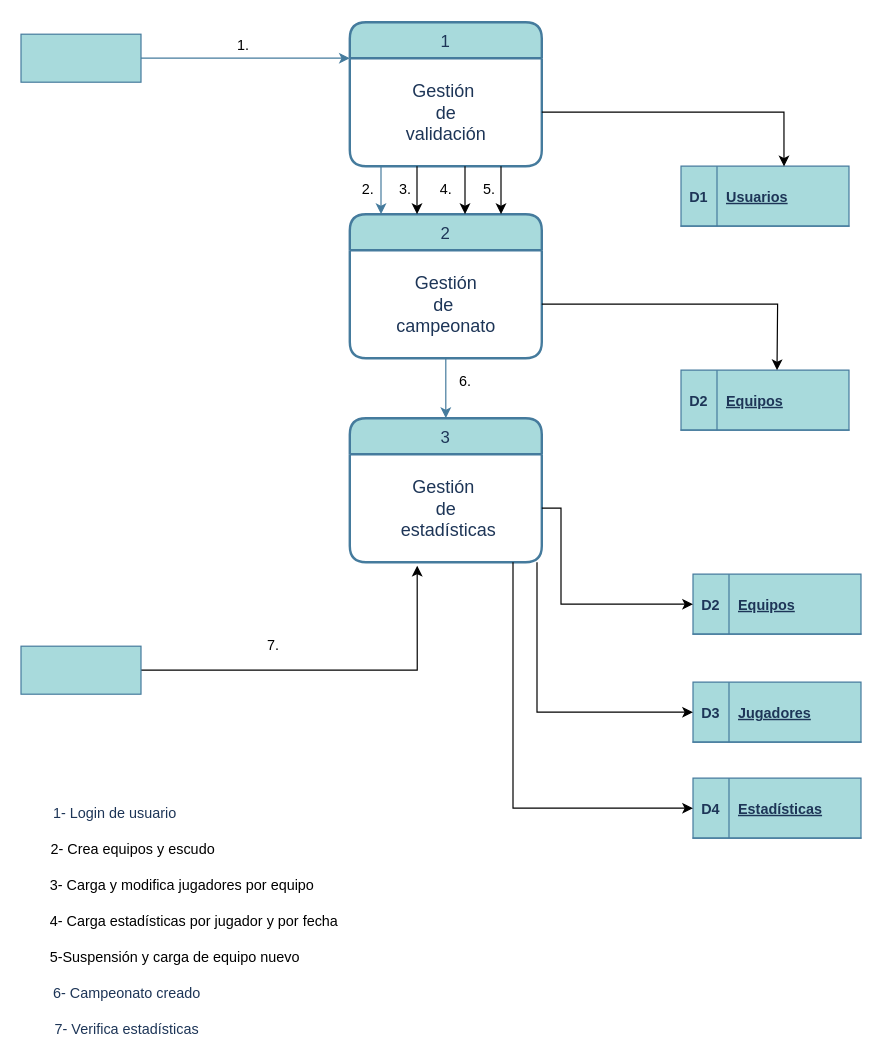
Image size: 882x1062. Some labels were removed from this diagram. The centre of each missing label's shape, as x and y in pixels:
Administrador: the point at 80,57
Usuario: the point at 80,669
